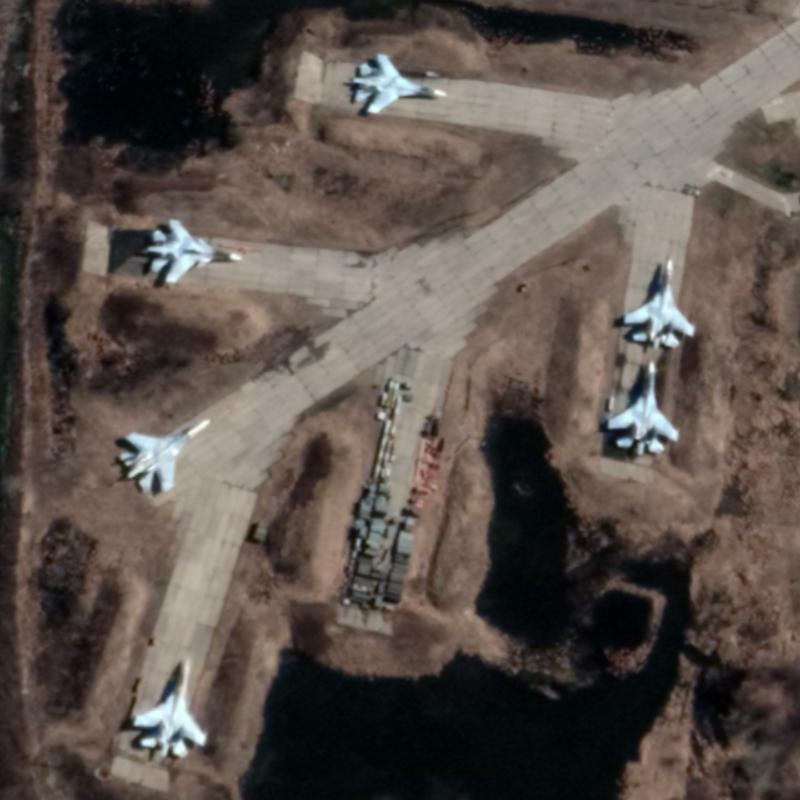A1: (129, 656, 209, 762), (601, 357, 682, 459), (619, 254, 699, 352), (114, 415, 212, 494), (346, 50, 450, 116)
A19: (143, 215, 243, 284)
